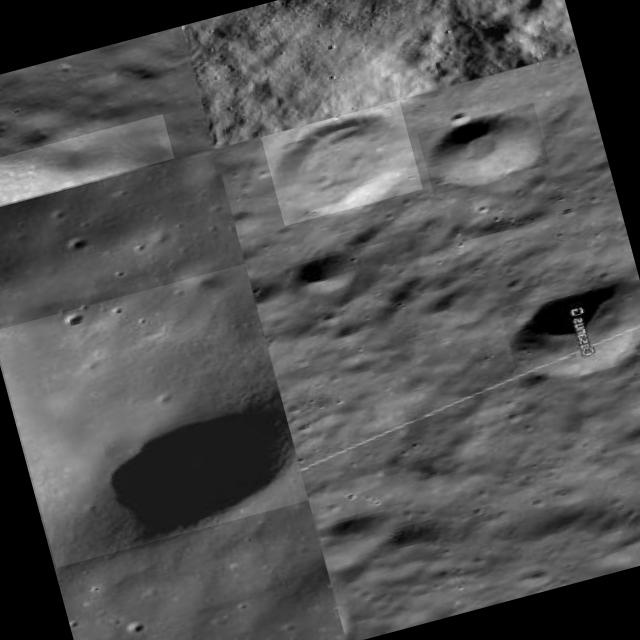crater: (0, 263, 310, 567), (261, 100, 423, 226), (0, 114, 175, 215), (501, 273, 640, 388), (418, 102, 550, 195), (286, 246, 362, 302)
